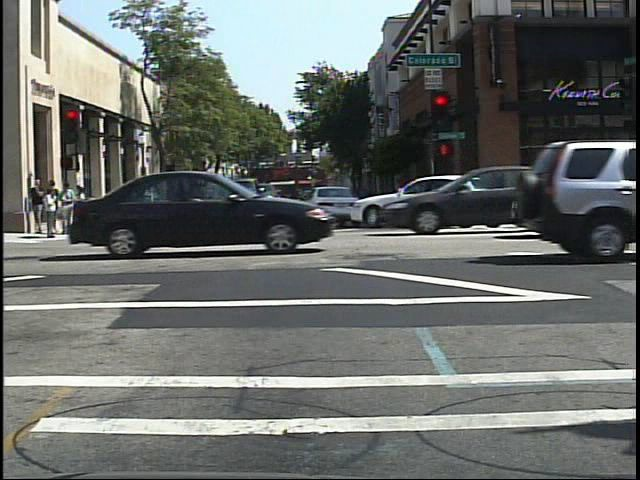person: (122, 181, 141, 223), (135, 181, 151, 218)
